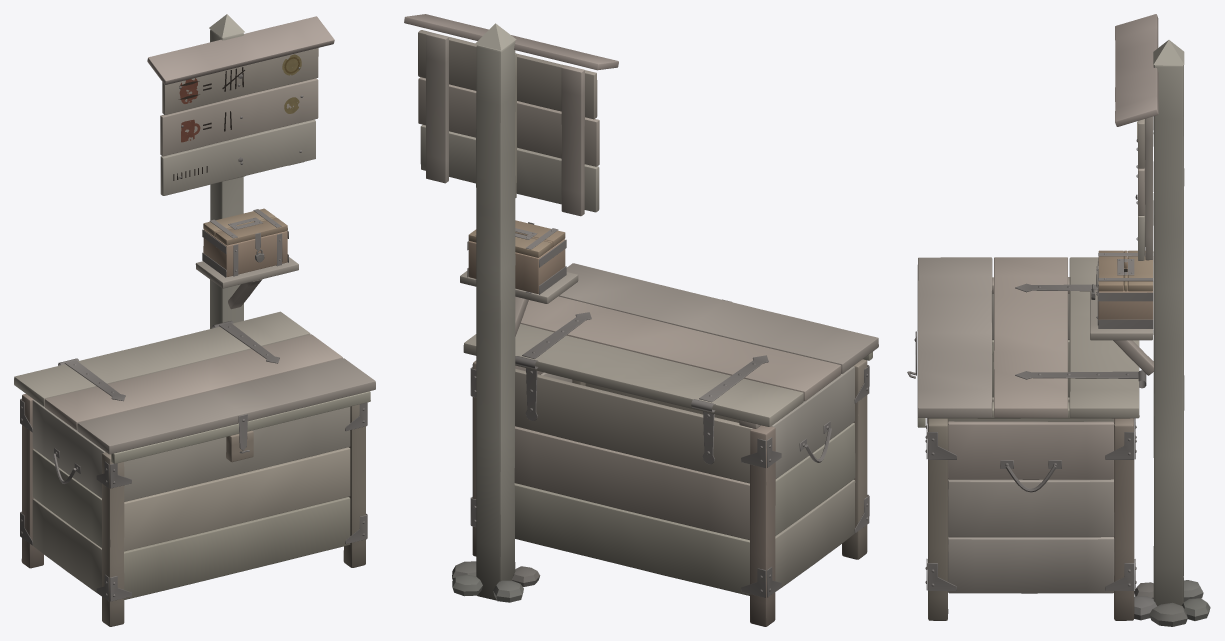
The model's file is stall.glb.
The picture shows the model from 3 angles, left to right: view 1: azimuth 30°, elevation 25°; view 2: azimuth 150°, elevation 25°; view 3: azimuth 270°, elevation 25°; orthographic projection. The views are drawn at different scales.
Visible parts, largest first — view 1: Chest / tav_board, PriceBoard / tav_board, Chest / tav_oak, Chest / tav_iron, CoinBox / tav_oak, PriceBoard / tav_oak, PriceBoard / tav_paint, CoinBox / tav_board, CoinBox / tav_iron; view 2: Chest / tav_board, PriceBoard / tav_board, PriceBoard / tav_oak, Chest / tav_oak, Chest / tav_iron, CoinBox / tav_oak, PriceBoard / tav_stone, CoinBox / tav_board, CoinBox / tav_iron; view 3: Chest / tav_board, PriceBoard / tav_oak, Chest / tav_oak, PriceBoard / tav_board, Chest / tav_iron, CoinBox / tav_oak, PriceBoard / tav_stone, CoinBox / tav_iron, CoinBox / tav_board.
Boxes of the visible parts, x1,y1,x2,y2 form: Chest / tav_board: [14, 311, 375, 599]; PriceBoard / tav_board: [147, 16, 334, 195]; Chest / tav_oak: [21, 394, 365, 626]; Chest / tav_iron: [20, 321, 367, 601]; CoinBox / tav_oak: [203, 208, 287, 276]; PriceBoard / tav_oak: [209, 14, 244, 328]; PriceBoard / tav_paint: [173, 54, 301, 180]; CoinBox / tav_board: [195, 257, 298, 309]; CoinBox / tav_iron: [202, 209, 288, 277]; Chest / tav_board: [463, 263, 878, 595]; PriceBoard / tav_board: [404, 14, 618, 216]; PriceBoard / tav_oak: [475, 23, 516, 600]; Chest / tav_oak: [472, 359, 867, 626]; Chest / tav_iron: [470, 299, 869, 597]; CoinBox / tav_oak: [468, 220, 565, 293]; PriceBoard / tav_stone: [452, 561, 540, 602]; CoinBox / tav_board: [460, 271, 578, 336]; CoinBox / tav_iron: [467, 222, 566, 294]; Chest / tav_board: [917, 257, 1139, 593]; PriceBoard / tav_oak: [1153, 40, 1184, 606]; Chest / tav_oak: [928, 418, 1134, 620]; PriceBoard / tav_board: [1115, 14, 1158, 260]; Chest / tav_iron: [907, 283, 1146, 590]; CoinBox / tav_oak: [1098, 250, 1153, 319]; PriceBoard / tav_stone: [1134, 580, 1210, 626]; CoinBox / tav_iron: [1091, 253, 1153, 328]; CoinBox / tav_board: [1090, 290, 1153, 375].
Bounding box in the file's own units: 1.21 × 1.85 × 0.8799.
